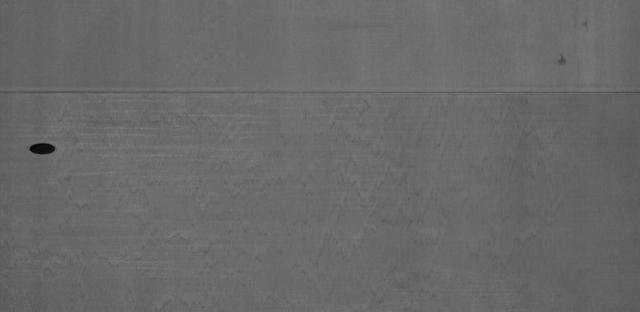inclusion: (553, 49, 568, 70)
punching_hole: (27, 141, 60, 159)
silk_spot: (71, 111, 575, 290)
welding_line: (2, 82, 637, 103)
